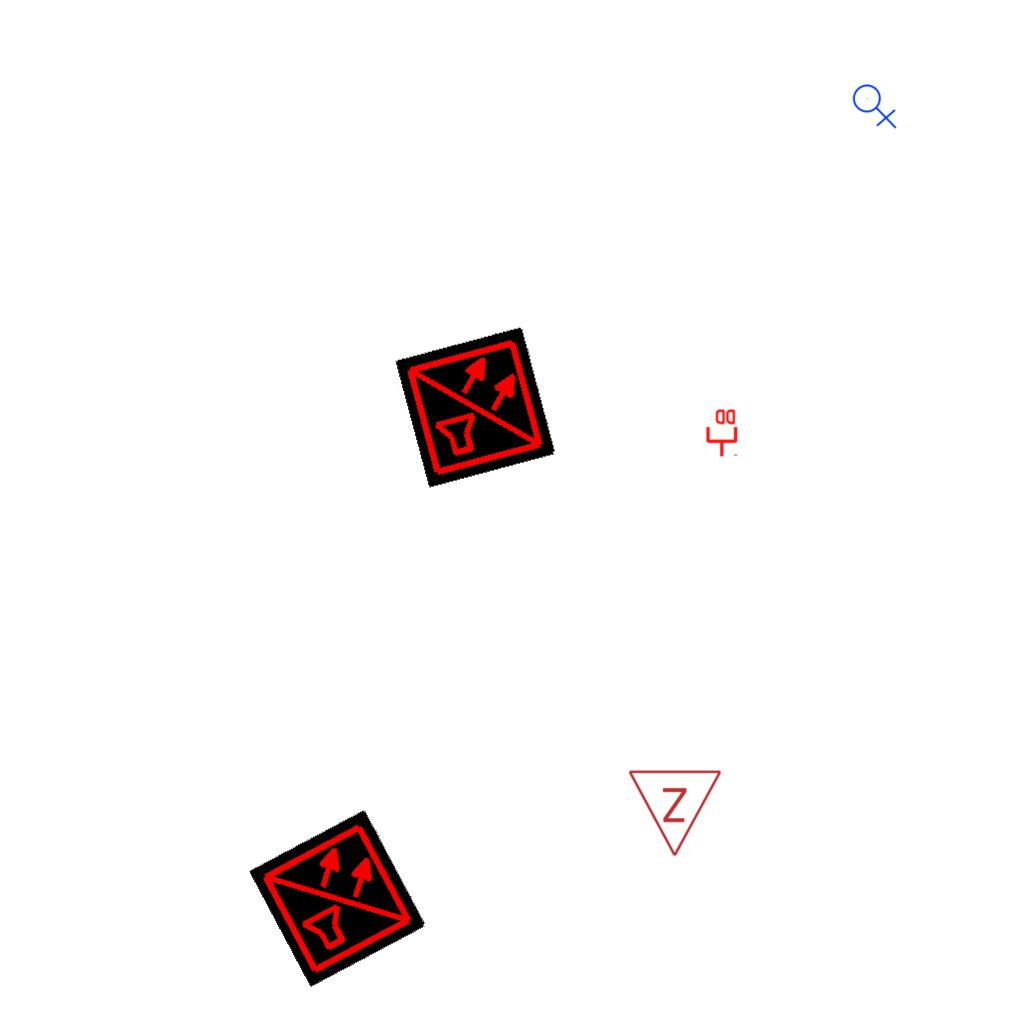Datenanschluss_zweifach: (704, 407, 738, 458)
Elektroanschluss_allgemein_230V_Geraeteanschlussdose_230V: (852, 80, 899, 129)
OKW_Multisensormelder_(Kombination_optischer_Rauch-Kahlenmonoxid_Waerme-Melder): (248, 808, 428, 988), (395, 326, 557, 488)
Zimmersignalleuchte: (627, 763, 725, 863)
